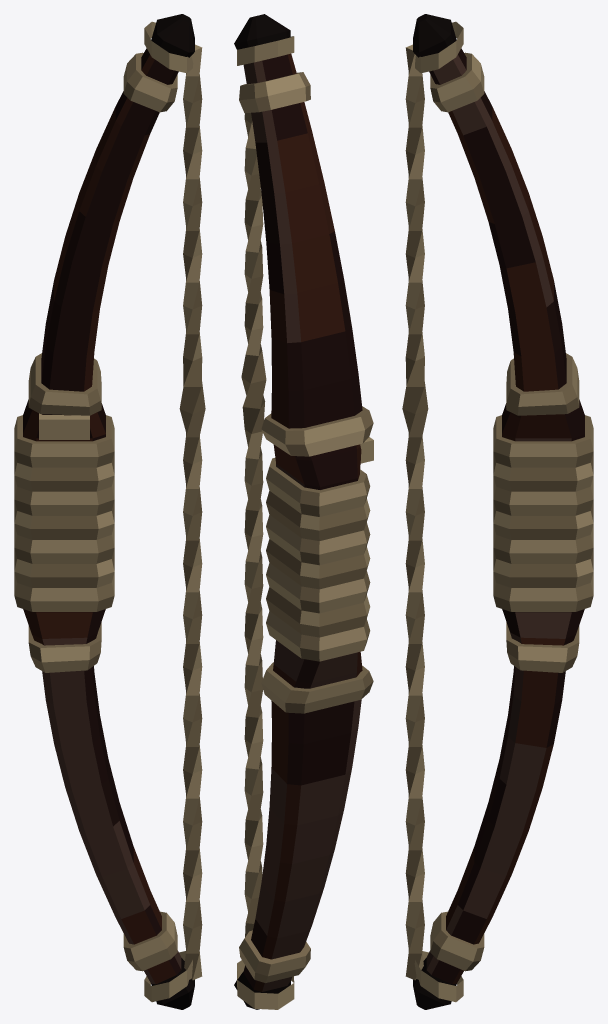
The model's file is bow.fbx.
The picture shows the model from 3 angles, left to right: view 1: azimuth 90°, elevation 25°; view 2: azimuth 210°, elevation 25°; view 3: azimuth 270°, elevation 25°; orthographic projection.
Visible parts, largest first — view 1: Bow_Stave, Bow_Wraps, Bow_String; view 2: Bow_Stave, Bow_Wraps, Bow_String; view 3: Bow_Stave, Bow_Wraps, Bow_String.
Boxes of the visible parts, x1,y1,x2,y2 form: Bow_Stave: (23,14,194,1009); Bow_Wraps: (14,52,177,971); Bow_String: (144,21,205,1002); Bow_Stave: (234,14,362,1009); Bow_Wraps: (239,72,373,982); Bow_String: (237,36,294,1009); Bow_Stave: (413,14,584,1009); Bow_Wraps: (430,52,593,971); Bow_String: (402,21,463,1002).
Size of the model in its own units: 0.3183 by 3.42 by 0.5971.
